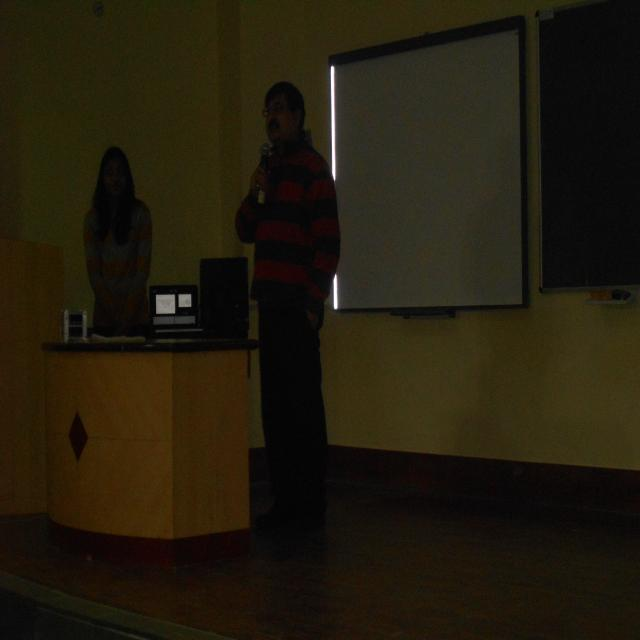People: (229, 66, 389, 565), (82, 113, 172, 383)
Table: (9, 267, 275, 579)
